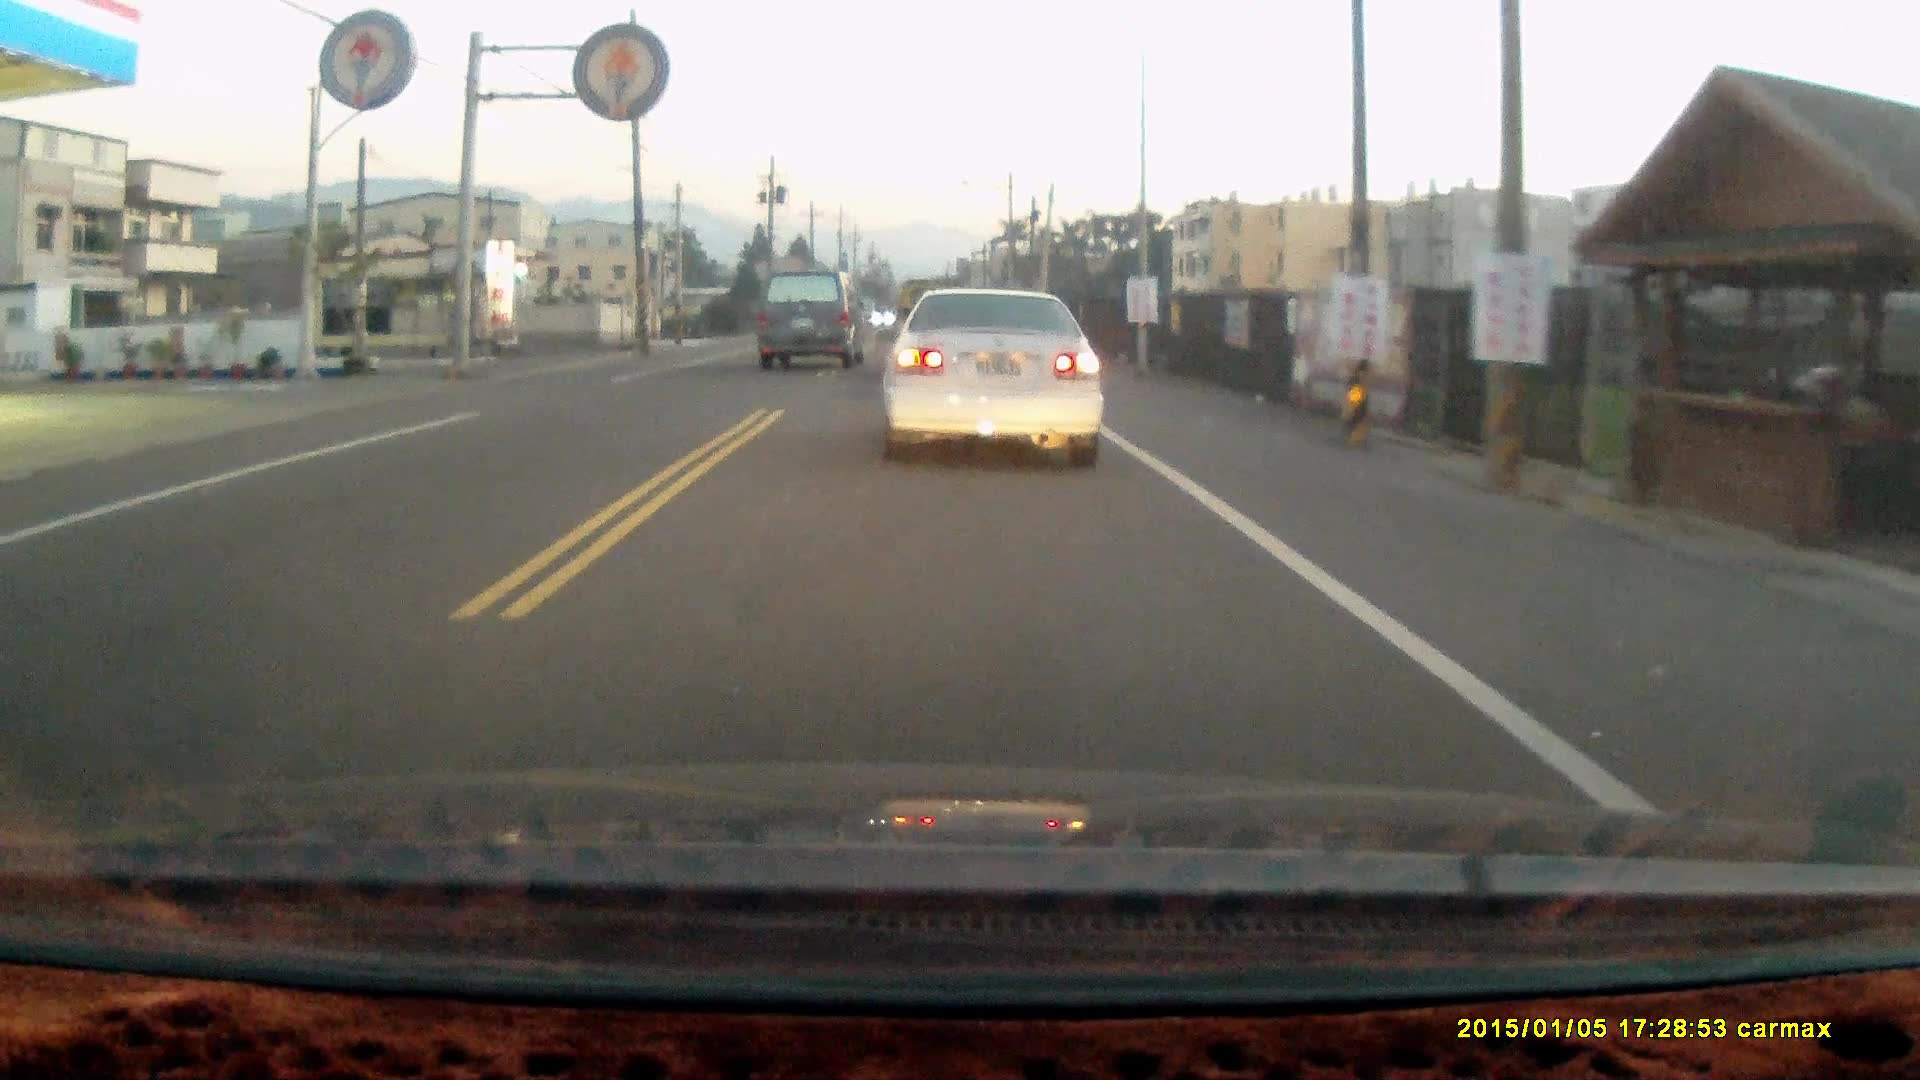pedestrian: (1811, 363, 1880, 500)
vehicle: (876, 281, 1106, 469), (749, 269, 867, 377)
